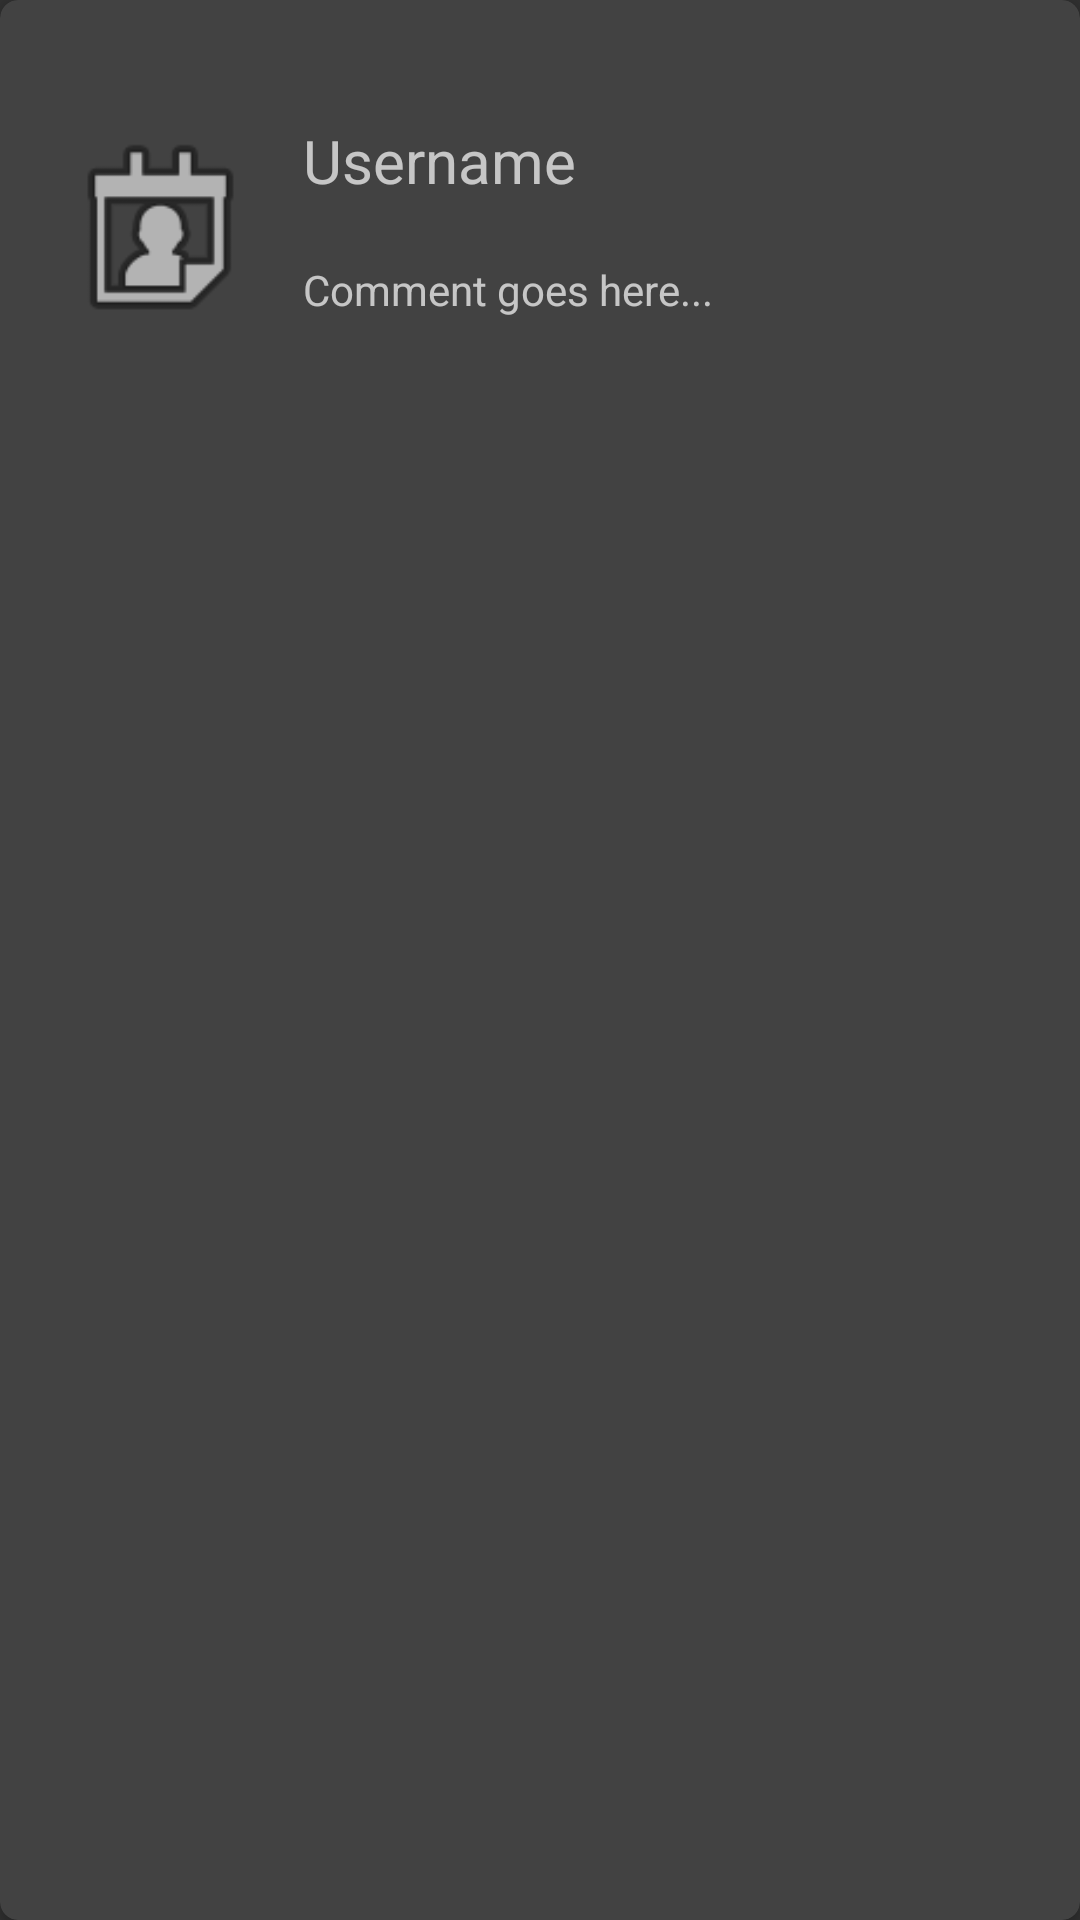

Where to tap for icons on this 1080 × 1920 app screen, as point (x, y):
calendar: point (160, 227)
